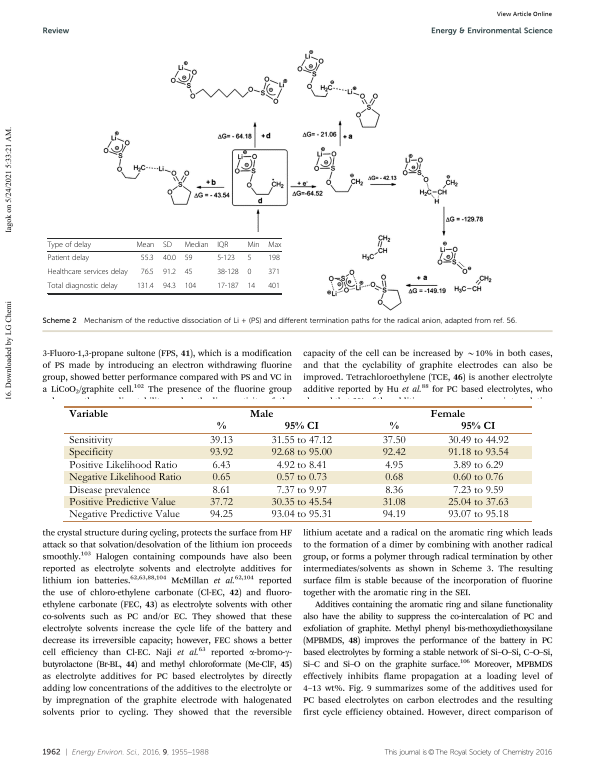borderless: (64, 404, 532, 521), (46, 237, 281, 293)
cell: (68, 472, 182, 484), (68, 509, 180, 521), (68, 459, 178, 471), (68, 497, 176, 509), (68, 484, 150, 496), (47, 268, 129, 278), (270, 435, 332, 447), (447, 435, 509, 447), (270, 447, 332, 459), (447, 447, 509, 459), (270, 497, 332, 509), (447, 497, 509, 509), (270, 509, 332, 521), (447, 509, 509, 521), (47, 282, 119, 292), (275, 459, 327, 471), (452, 459, 504, 471), (275, 472, 327, 484), (452, 472, 504, 484), (275, 484, 327, 496), (452, 484, 504, 496), (68, 435, 113, 447), (68, 447, 113, 459), (47, 254, 90, 264), (68, 408, 109, 418), (47, 241, 92, 250), (429, 408, 465, 418), (283, 421, 319, 430), (460, 421, 496, 430), (208, 435, 233, 447), (381, 435, 406, 447), (208, 447, 233, 459), (381, 447, 406, 459), (208, 497, 233, 509), (381, 497, 406, 509), (208, 509, 233, 521), (381, 509, 406, 521), (248, 408, 274, 418), (211, 459, 231, 471), (211, 472, 231, 484), (211, 484, 231, 496), (216, 268, 240, 278), (216, 282, 240, 292), (384, 459, 403, 471), (384, 472, 403, 484), (384, 484, 403, 496), (184, 241, 209, 250), (216, 254, 236, 264), (136, 282, 155, 292), (135, 241, 155, 250), (140, 254, 155, 264), (162, 254, 177, 264), (140, 268, 155, 278), (162, 268, 177, 278), (162, 282, 177, 292), (267, 254, 281, 264), (267, 268, 281, 278), (267, 282, 281, 292), (267, 241, 282, 250), (184, 282, 197, 292), (246, 241, 260, 250), (216, 241, 229, 250), (246, 282, 256, 292), (215, 421, 226, 430), (388, 421, 399, 430), (162, 241, 173, 250), (184, 254, 193, 264), (184, 268, 193, 278), (246, 254, 252, 264), (246, 268, 252, 278)
